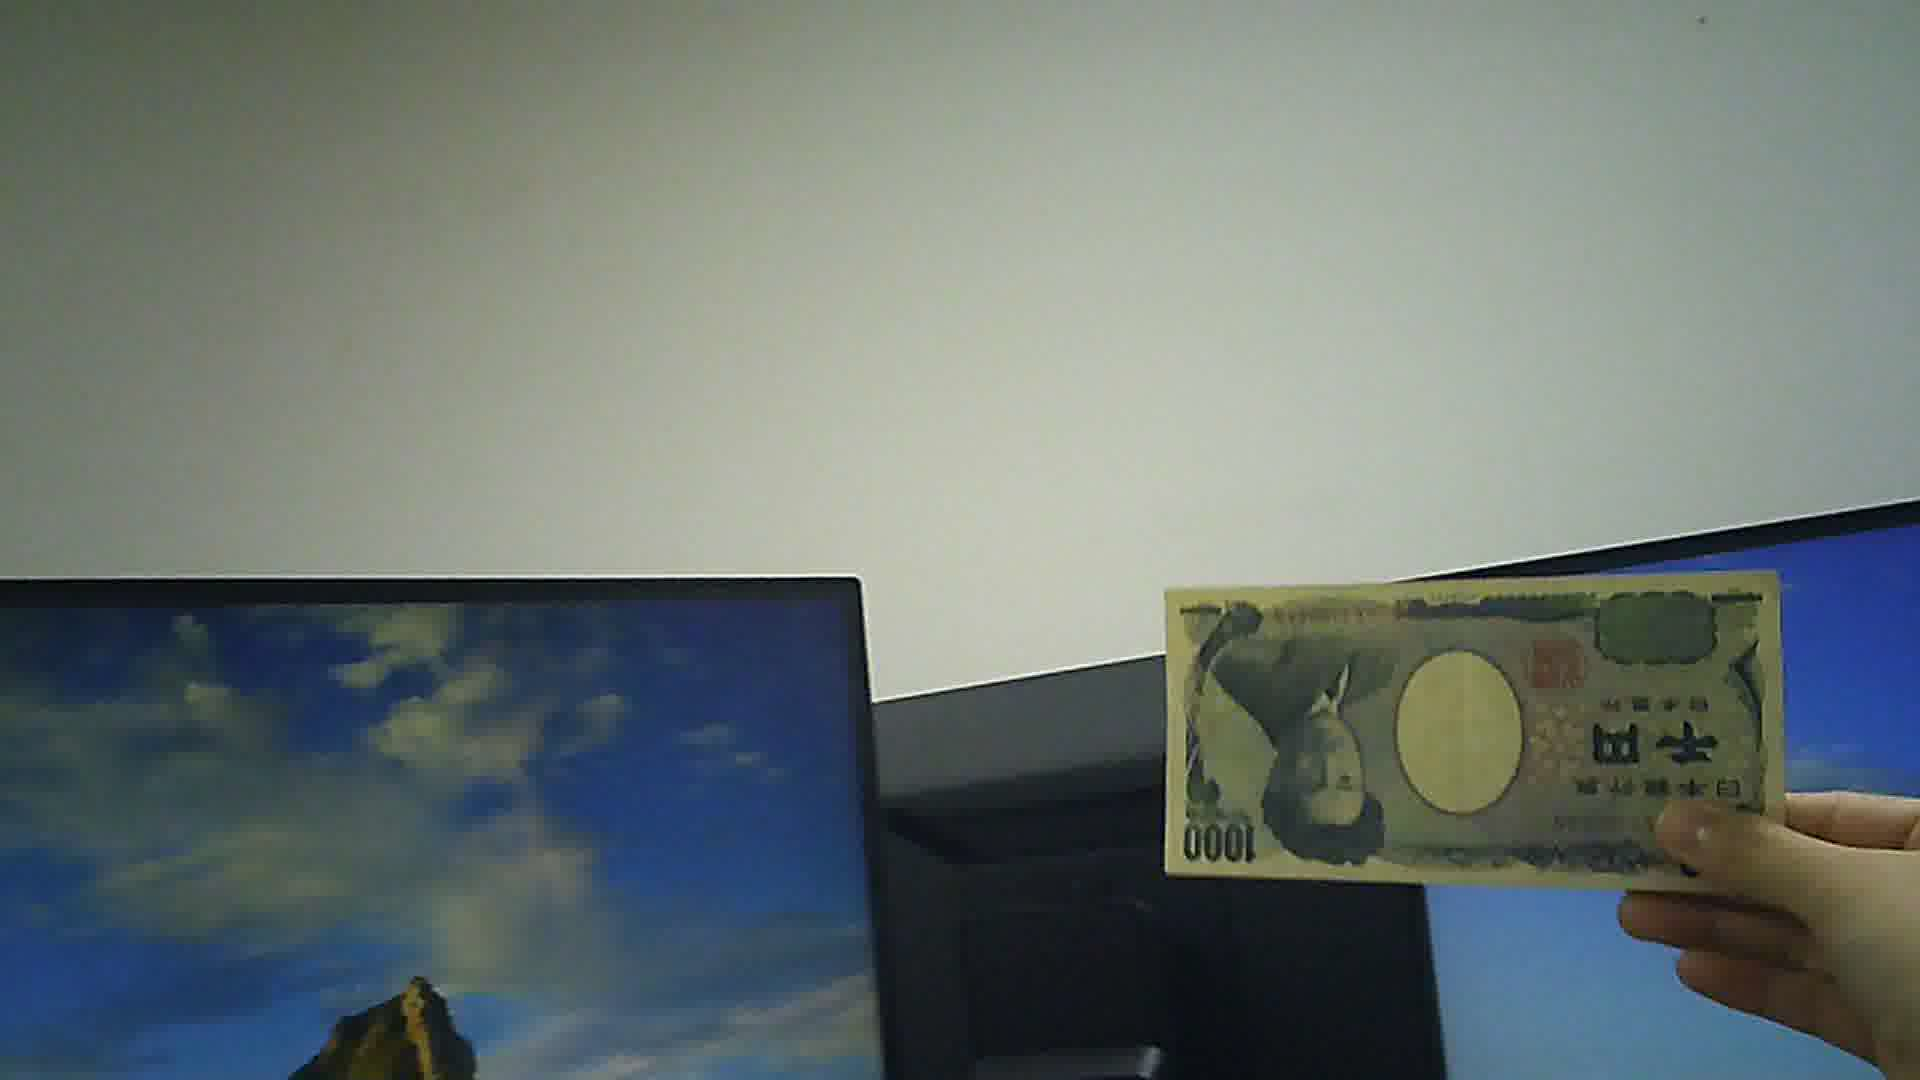1,000 Yen: (1147, 558, 1792, 895)
